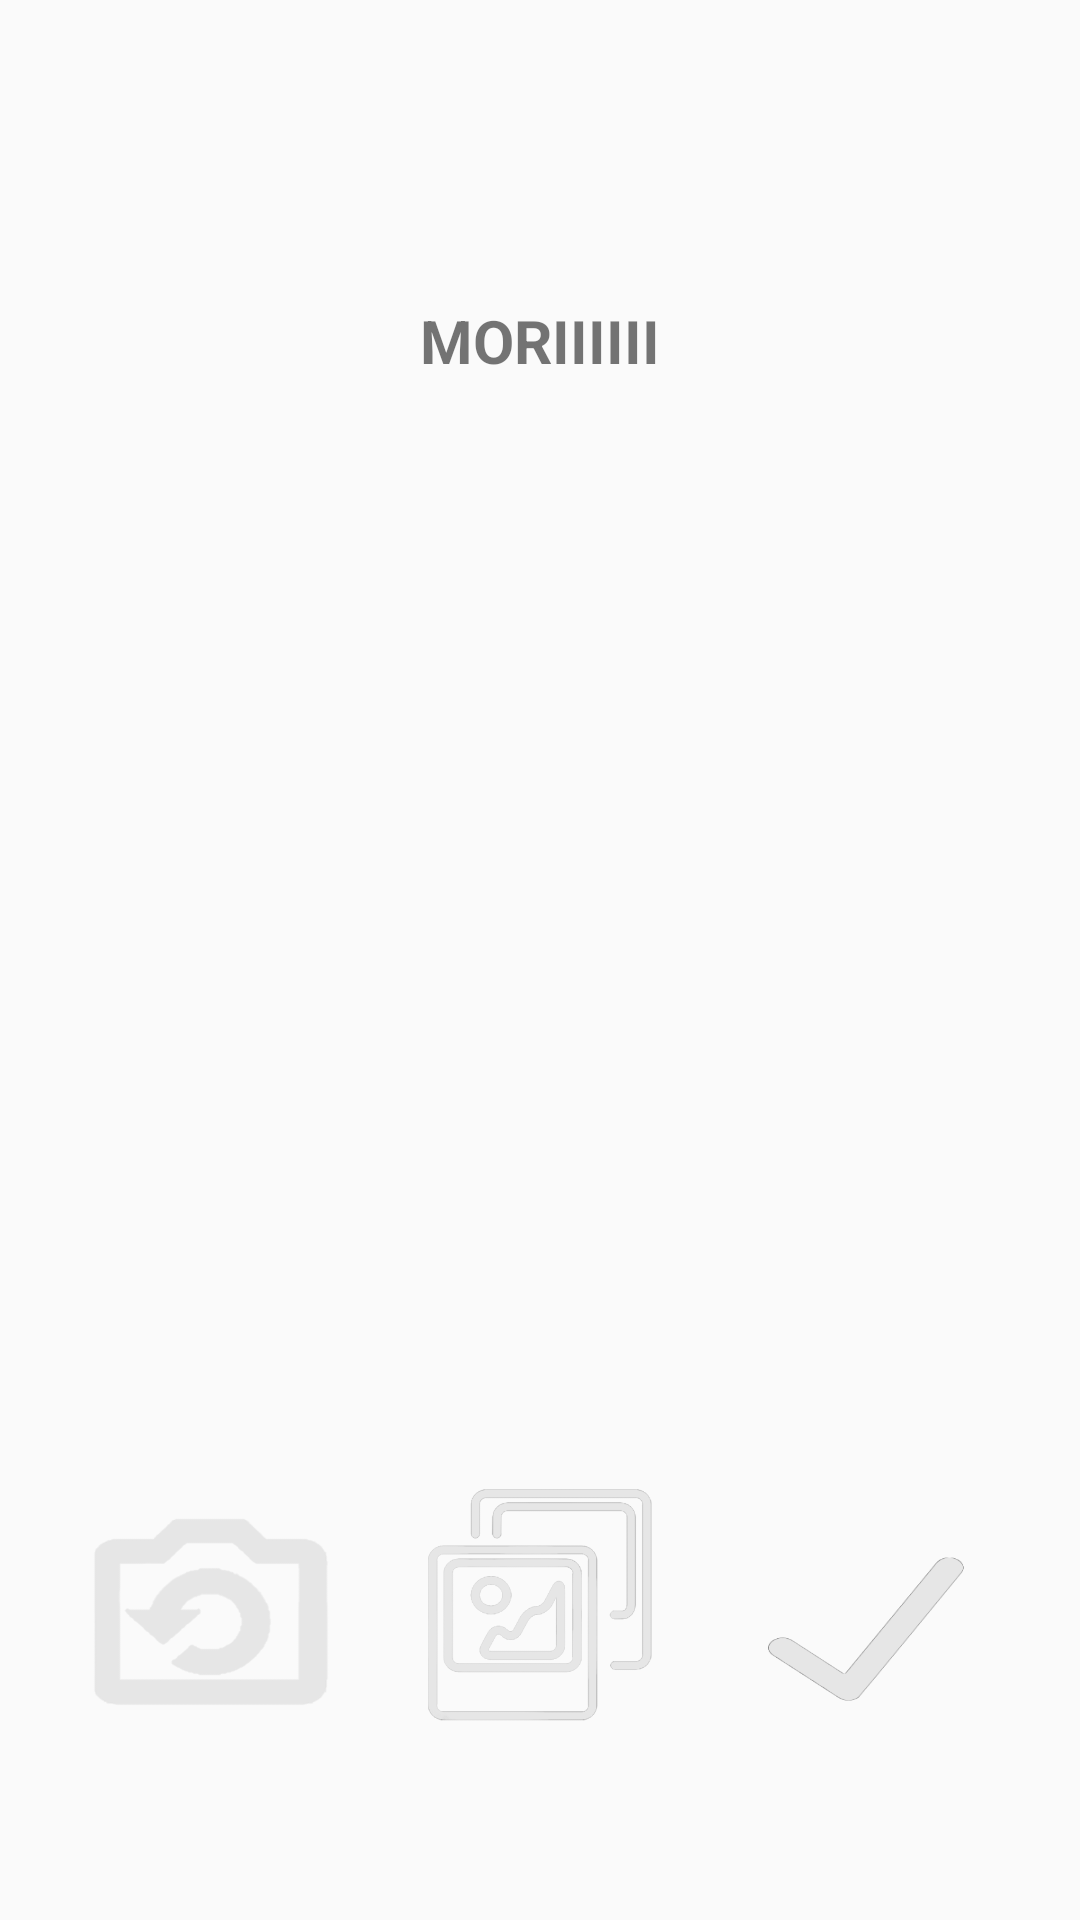

Named icons in this screenshot (1080×1920) and their bounding boxes, (x1, y1, x2, y2):
checkmark: (768, 1557, 964, 1701)
imagegalleryicon: (428, 1489, 652, 1720)
